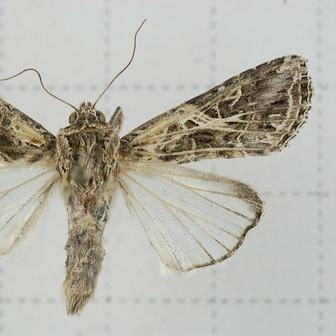Spodoptera litura: (1, 19, 314, 317)
